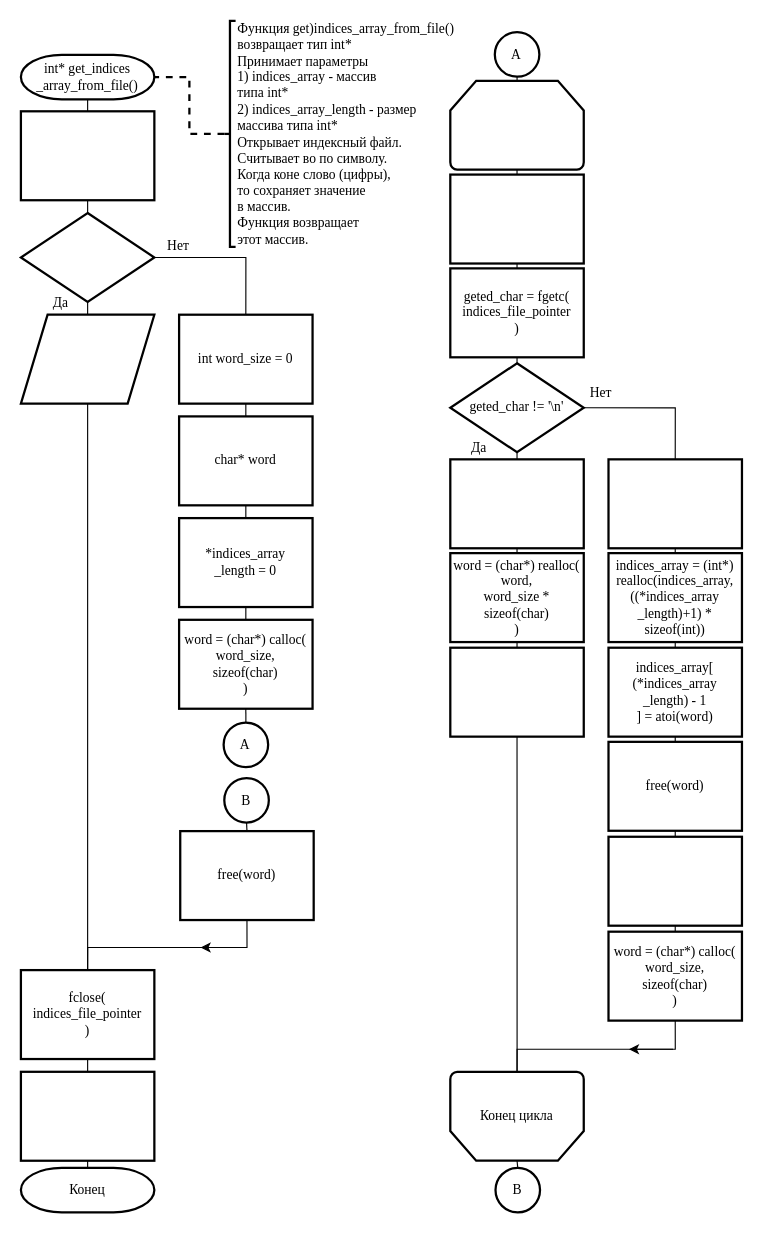
Image size: 763x1233. Some labels were removed from this diagram. Here are the shapes that lost their labels. From the top down, the centre of each, then its label:
the point at 516,124: ! feof( indices_file_pointer )
the point at 87,155: FILE* indices_file_pointer = fopen( "indices.txt", "r" )
the point at 516,218: char geted_char
the point at 87,257: indices_file _pointer == NULL
the point at 87,358: Не удалось прочесть индексный файл, т. к. он не открылся
the point at 516,503: word_size++
the point at 675,503: (*indices_array _length)++
the point at 516,691: word[word_size - 1] = geted_char
the point at 675,880: word_size = 0
the point at 87,1115: return indices_array
